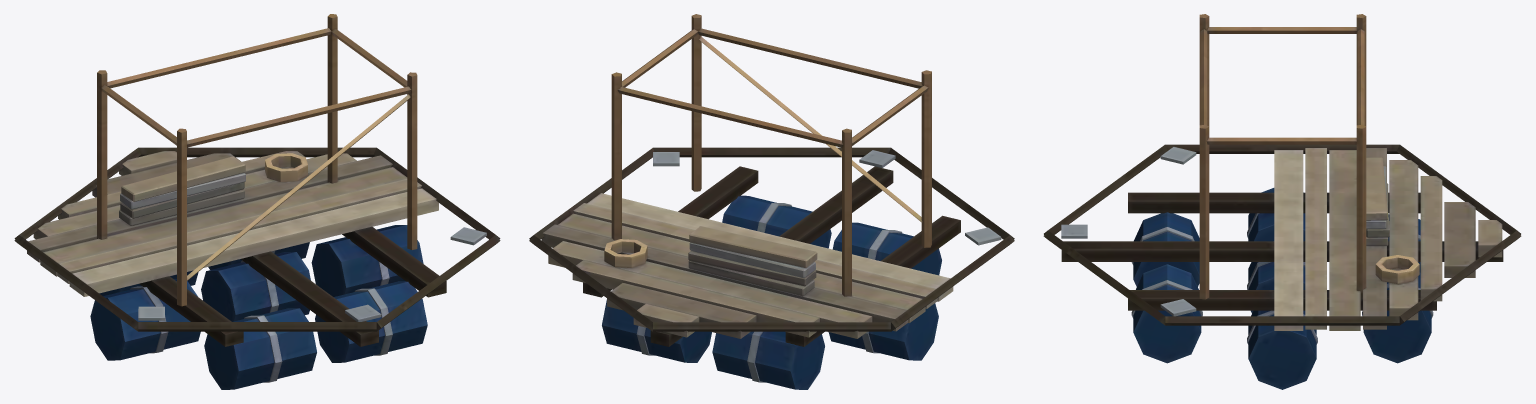
The model's file is raft-yard-age10.glb.
3 views of the same model, side by side, from view 1: azimuth 30°, elevation 25°; view 2: azimuth 150°, elevation 25°; view 3: azimuth 270°, elevation 25° (orthographic).
Parts seen in each view (by area): view 1: raft-yard-age10; view 2: raft-yard-age10; view 3: raft-yard-age10.
Boxes of the visible parts, x1,y1,x2,y2 form: raft-yard-age10: [14, 14, 500, 389]; raft-yard-age10: [529, 14, 1014, 389]; raft-yard-age10: [1043, 14, 1521, 389].
Bounding box in the file's own units: 1.59 × 1.05 × 1.83.
1 material, 1 textured.
